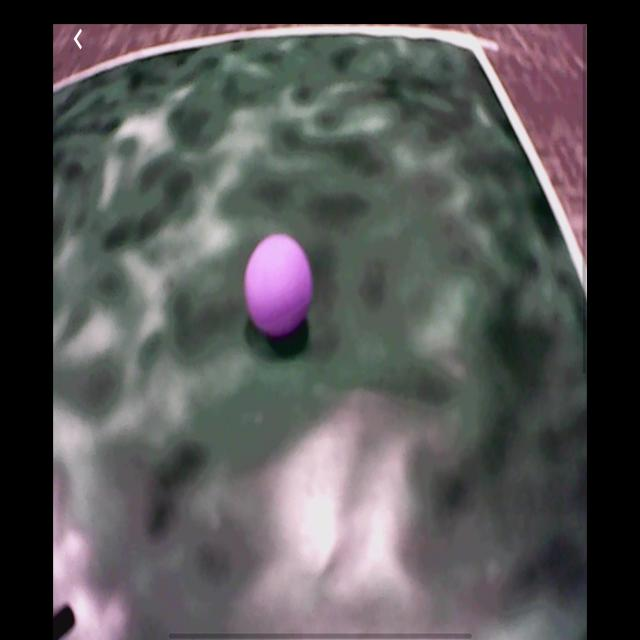ball: (244, 233, 314, 340)
